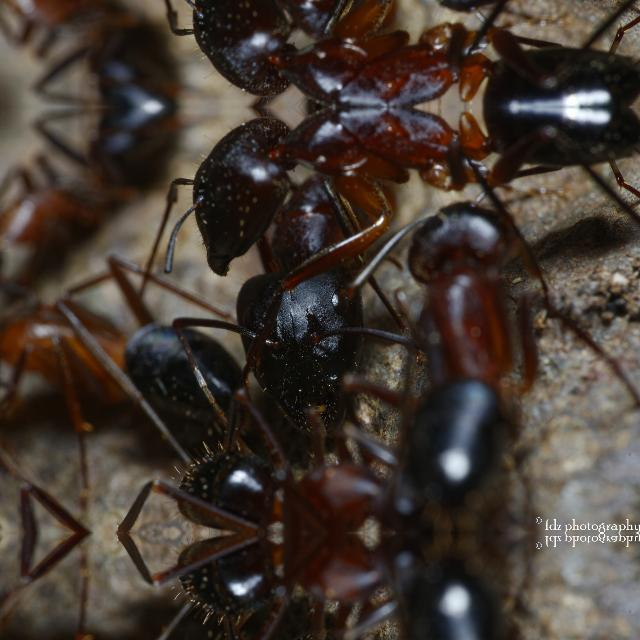Camponotus: (126, 106, 640, 256), (373, 192, 584, 508), (126, 0, 638, 106), (216, 148, 407, 412), (0, 270, 252, 432), (0, 106, 190, 276), (155, 422, 447, 532), (155, 532, 447, 640), (0, 0, 190, 106), (372, 556, 584, 640), (214, 0, 406, 64)
